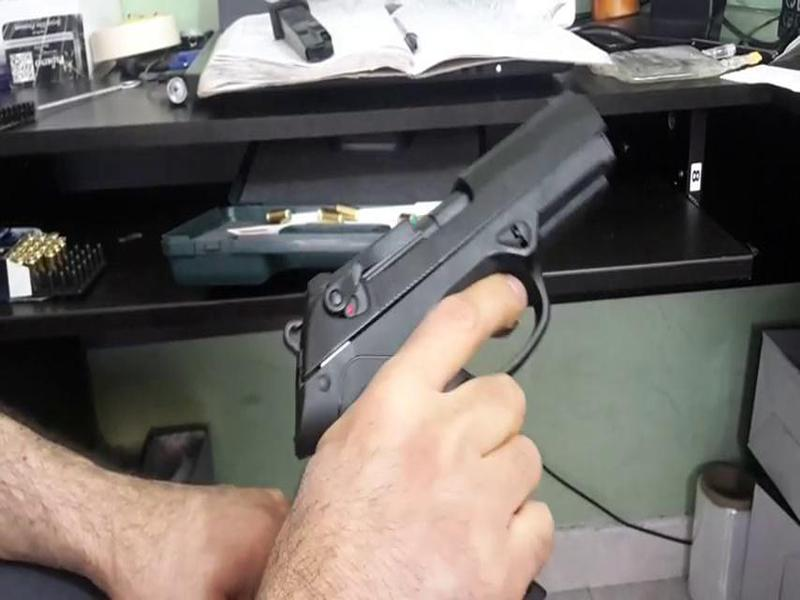Pistola: (285, 82, 625, 440)
